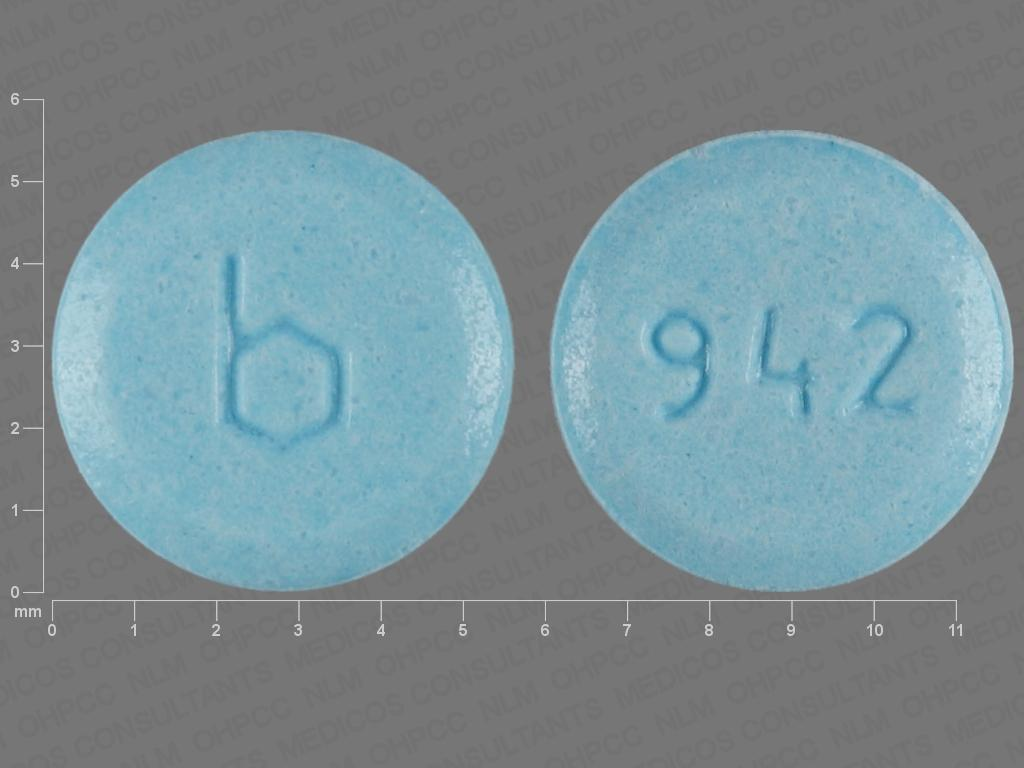Pill: (543, 117, 1018, 597), (49, 116, 519, 596)
